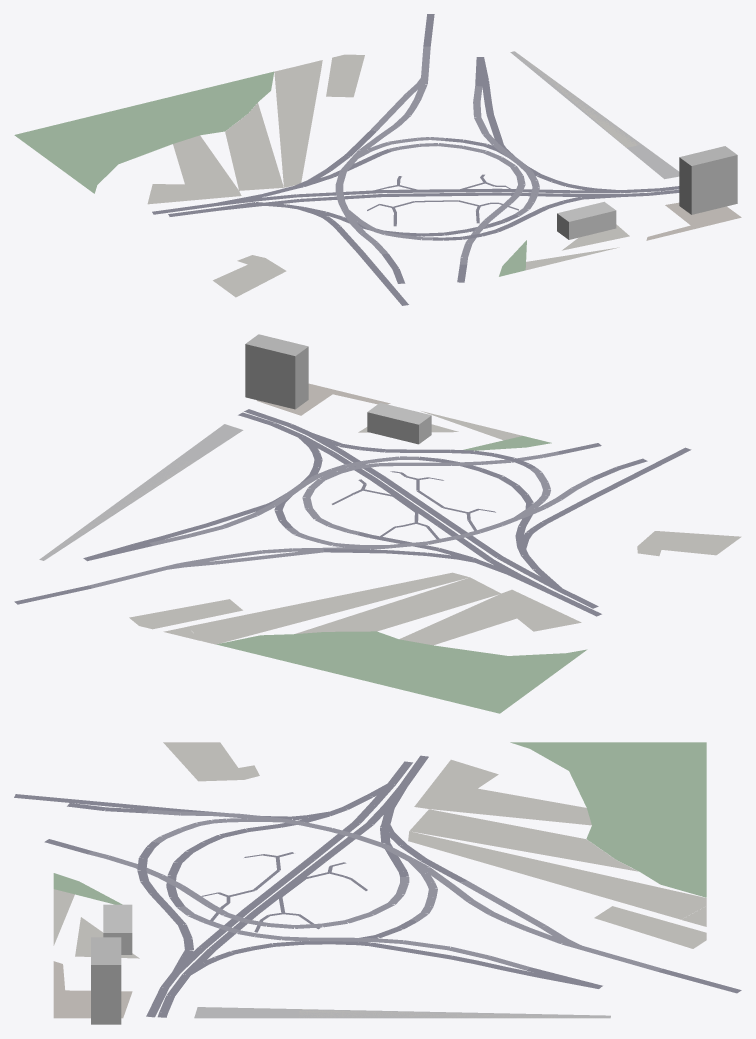
File: 104_98_mid.glb
3 views of the same model, one above another, from view 1: azimuth 30°, elevation 25°; view 2: azimuth 150°, elevation 25°; view 3: azimuth 270°, elevation 25° (orthographic). The views are drawn at different scales.
Size of the model in its own units: 512 by 50.71 by 557.
